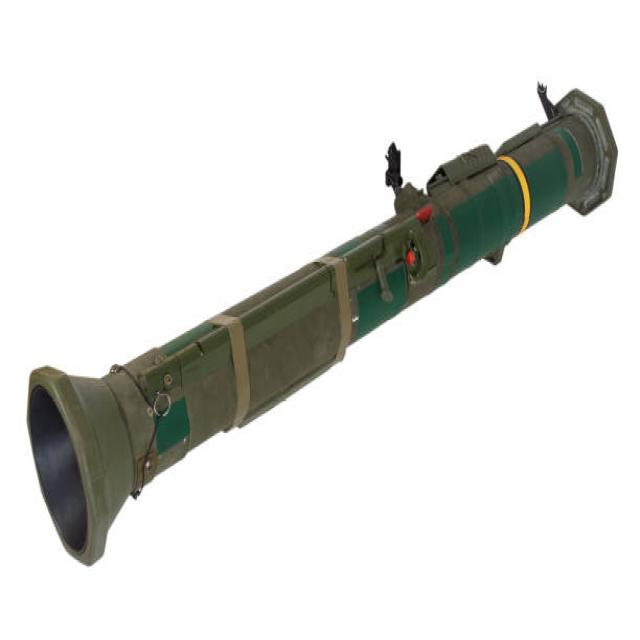bazooka: (28, 69, 622, 572)
